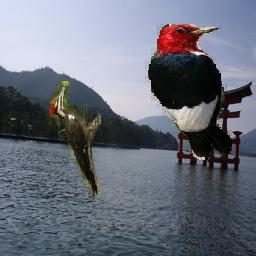Woodpecker: (146, 24, 233, 160), (50, 81, 103, 199)
